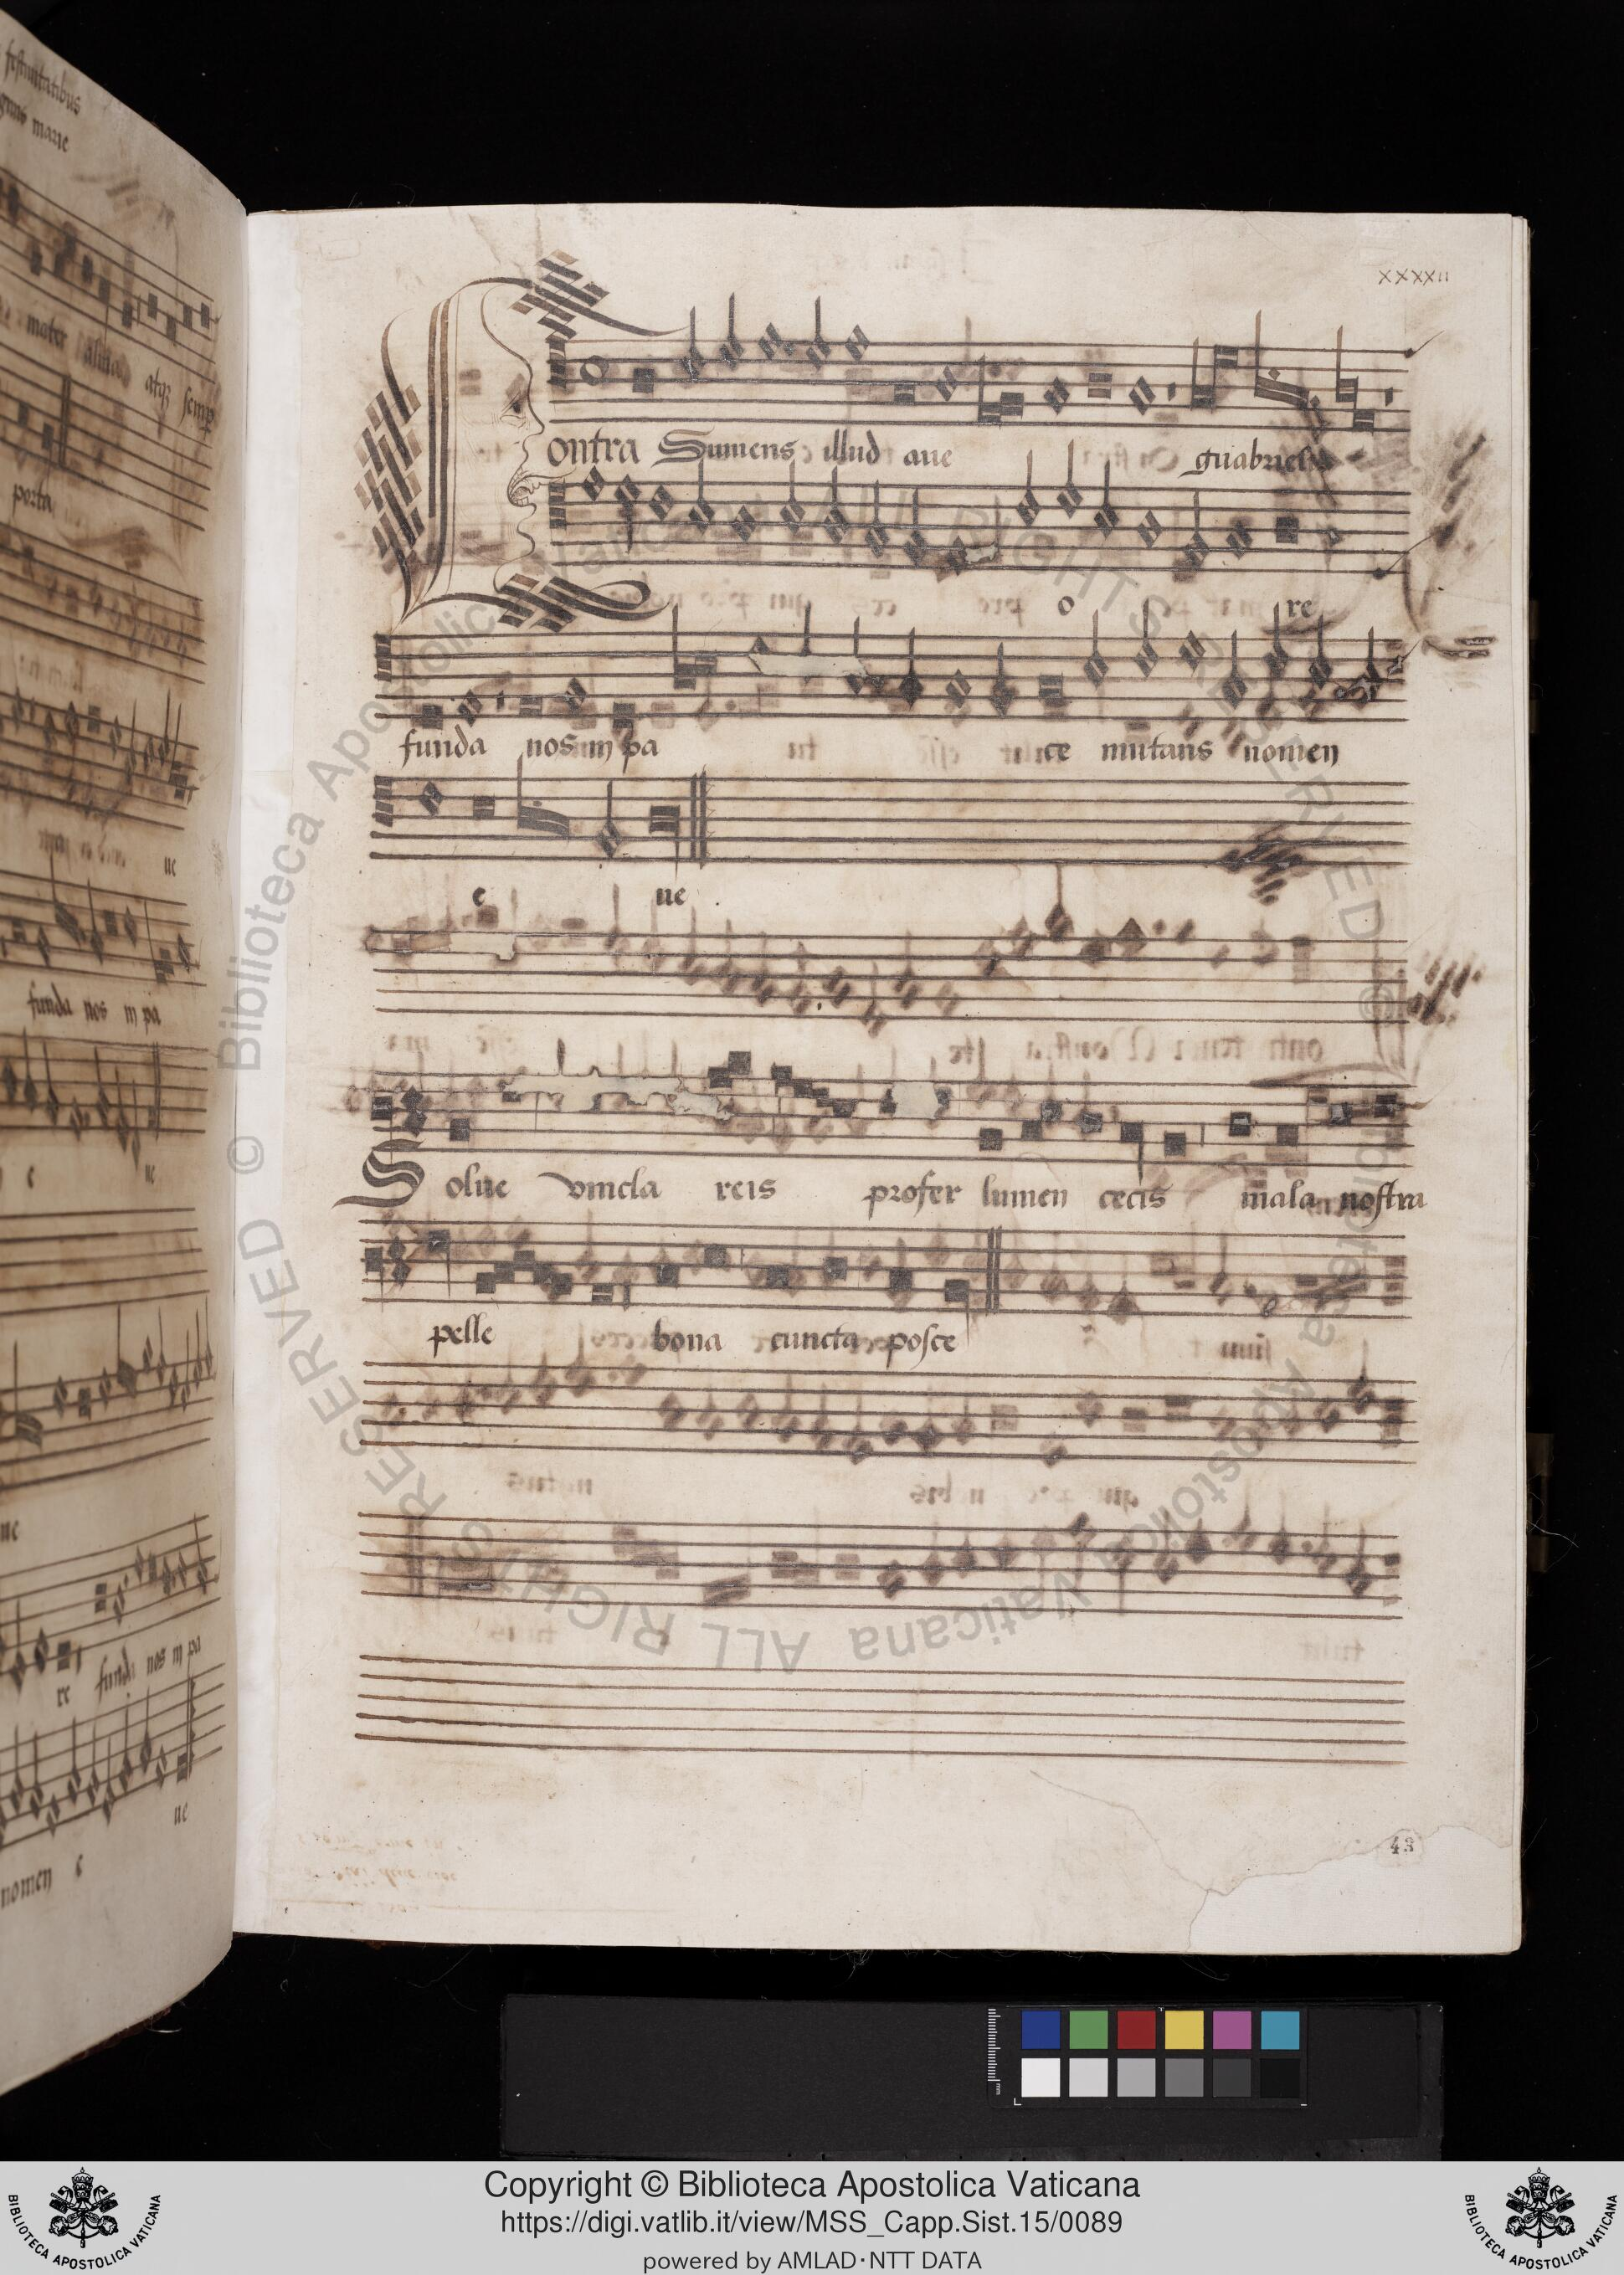breve_7: (1262, 501, 1308, 553)
c clef_5: (541, 464, 575, 552)
custos_11: (1362, 543, 1410, 594)
minim_4: (608, 462, 642, 555), (1053, 439, 1086, 531)
minim_5: (1011, 448, 1044, 536)
minim_6: (768, 451, 807, 555), (1091, 450, 1121, 545)
minim_7: (816, 455, 856, 564), (680, 451, 721, 552)
minim_8: (858, 467, 893, 562)
minim_9: (902, 473, 933, 590), (1181, 476, 1213, 578)
semibreve_10: (942, 520, 975, 587)
semibreve_3: (575, 459, 608, 511)
semibreve_5: (643, 469, 680, 534)
semibreve_7: (722, 490, 766, 557), (1130, 495, 1167, 559)
semibreve_8: (1216, 504, 1262, 573)
